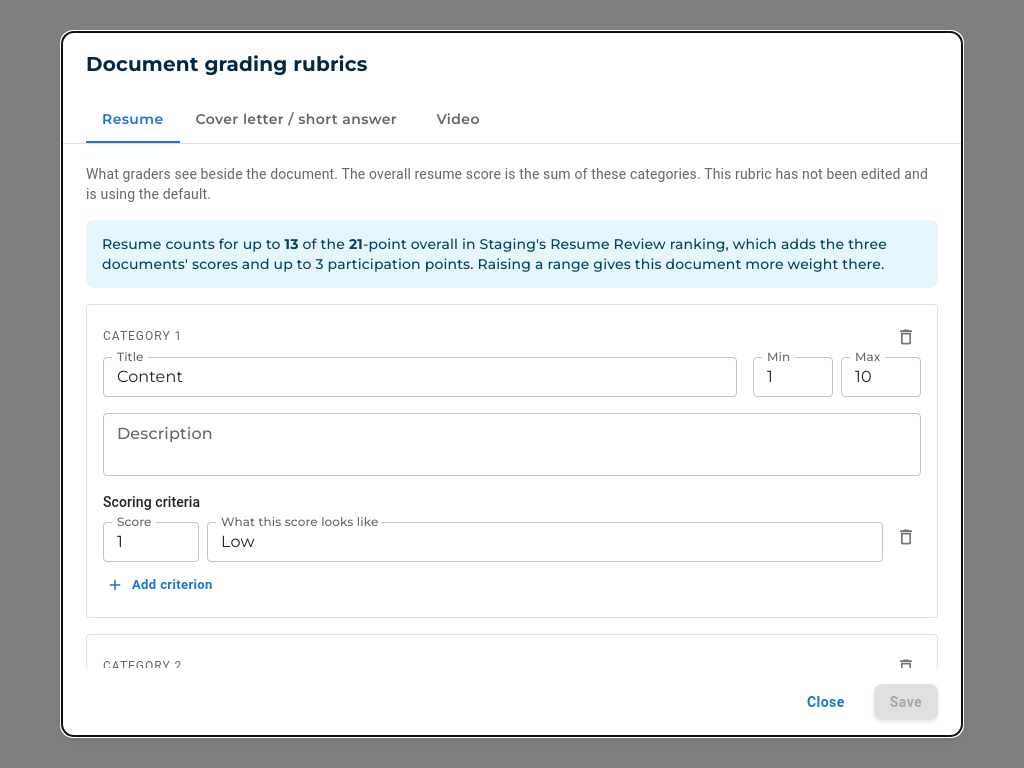
Test: DocumentRubricEditorDialog › drops a pending warning when the admin switches tabs, so it cannot confirm another rubric
Expected: the field showing "Content" is shown, 103,357 -> 737,397
Replace the text in the field labelled "Max" with "8" at (881, 377), box 841,357 -> 921,397
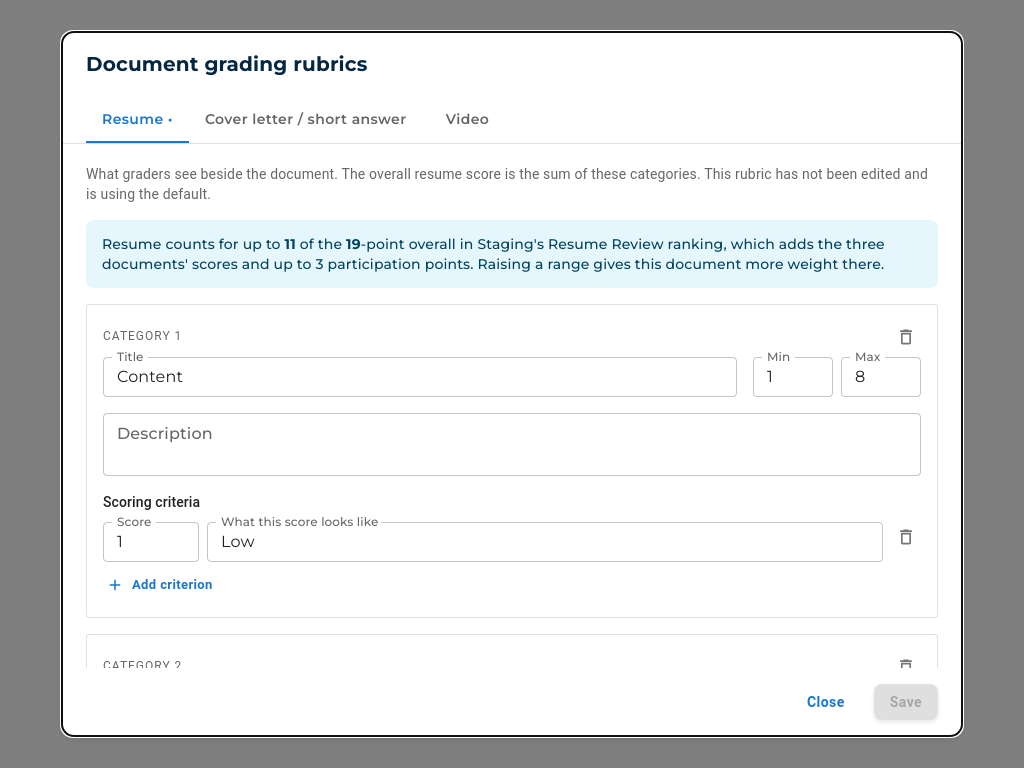
Click the button "Save" at (906, 702), box 874,684 -> 938,720
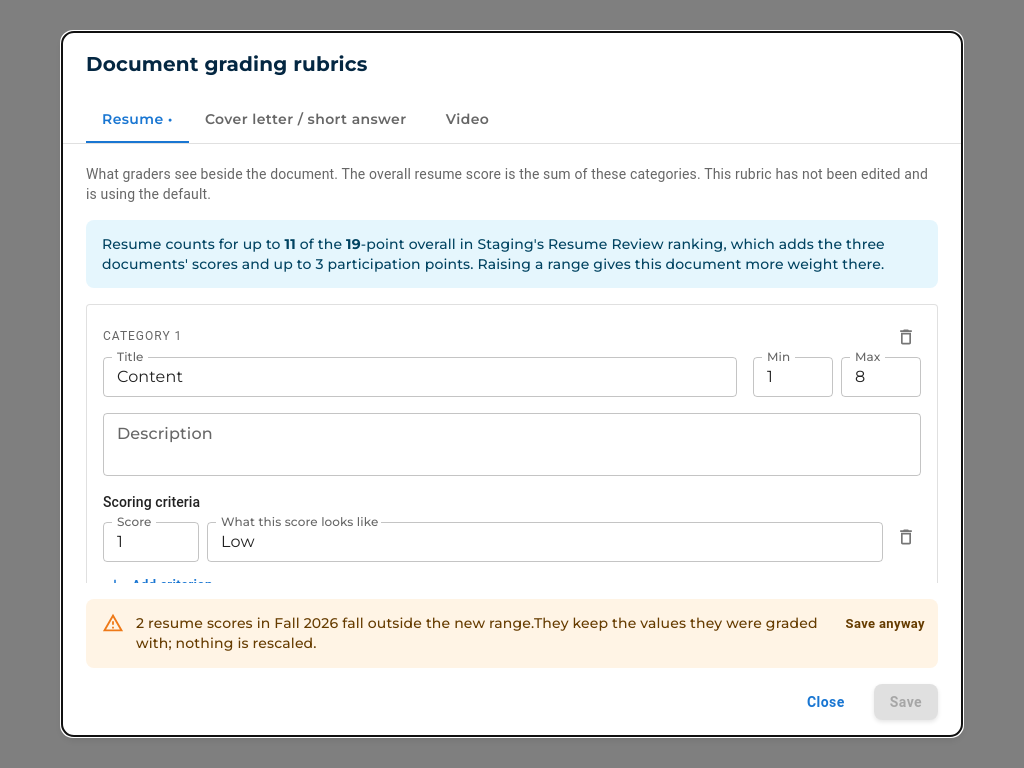
Result: the text "fall outside" is shown at 338,614 -> 422,632
Switching tabs drops the warning rather than carrying it to the new tab.
Click the tab "Video" at (468, 120), box 422,96 -> 512,144
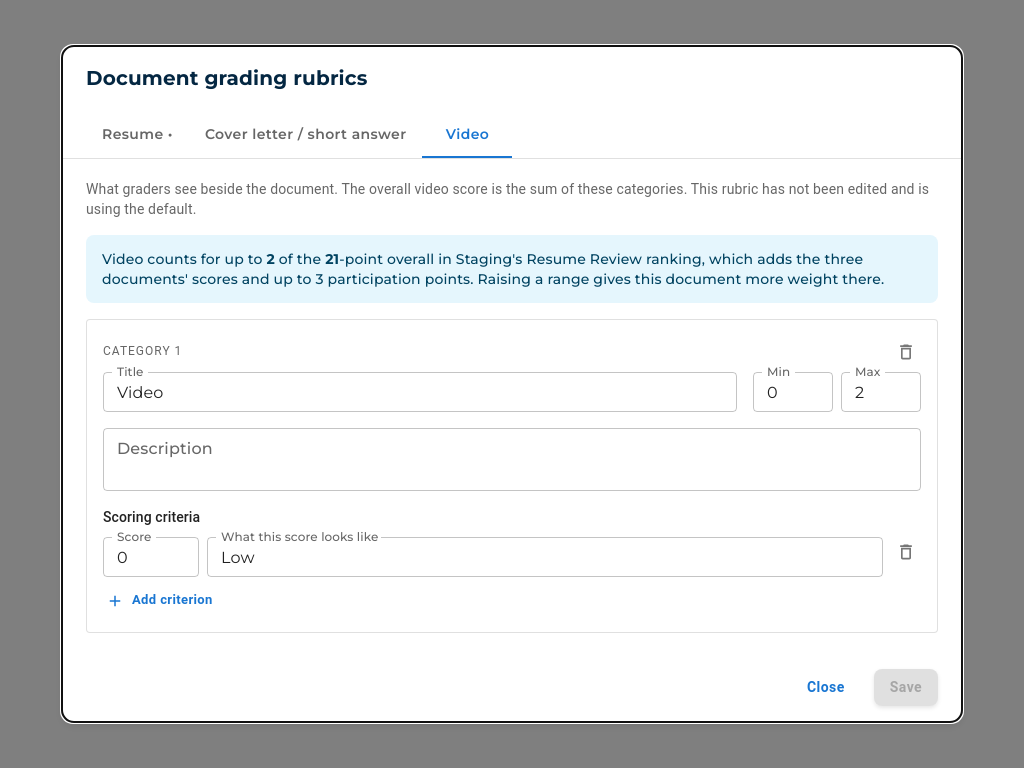
Result: the text "fall outside" is gone
